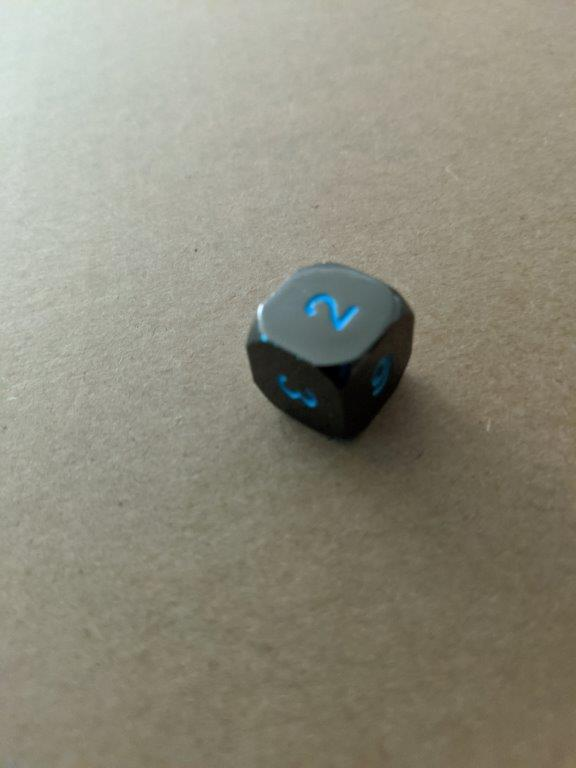d6-2: (243, 264, 414, 442)
